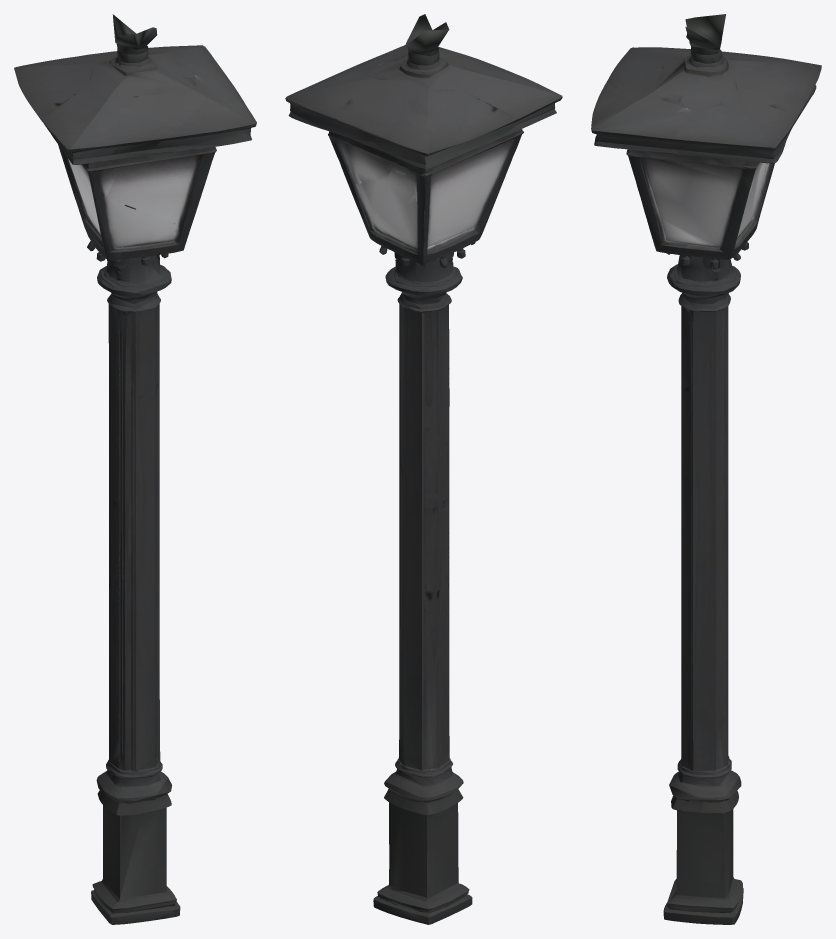
The model's file is streetlamp.glb.
3 renders of one model, left to right at view 1: azimuth 30°, elevation 25°; view 2: azimuth 150°, elevation 25°; view 3: azimuth 270°, elevation 25°, orthographic.
Visible parts, largest first — view 1: model; view 2: model; view 3: model.
Part boxes in pixels (left/top/right/bottom): model: left=14, top=14, right=256, bottom=924; model: left=285, top=14, right=562, bottom=924; model: left=591, top=14, right=821, bottom=924.
Size of the model in its own units: 0.4579 by 1.88 by 0.4423.
1 material, 1 textured.
